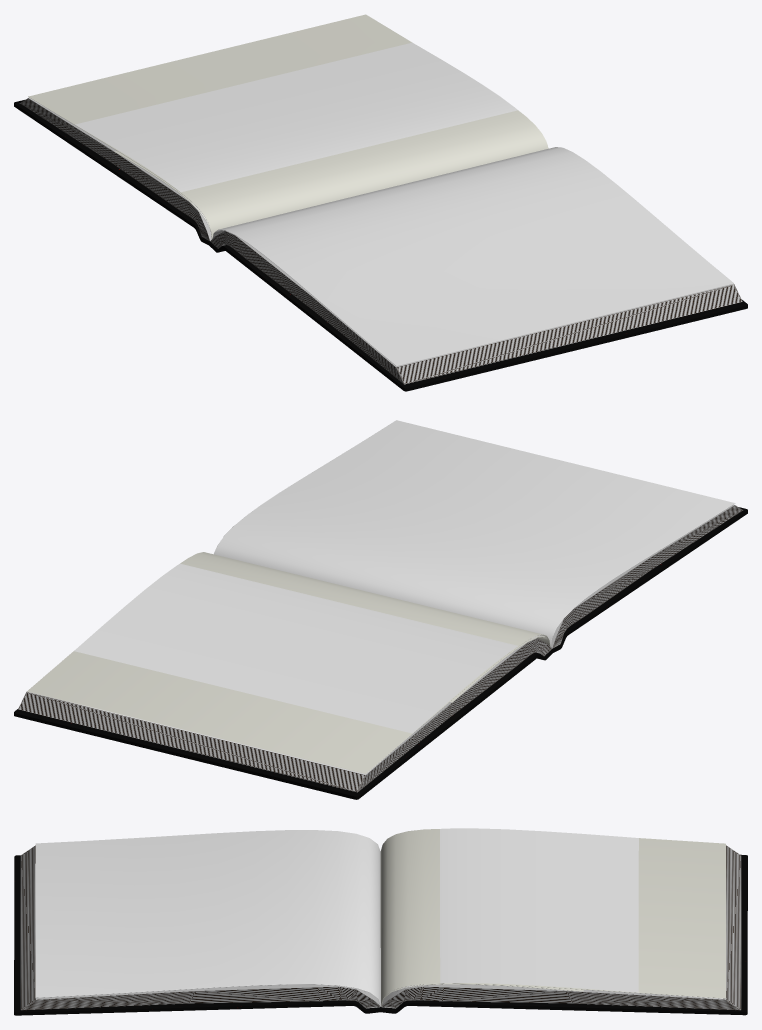
File: book.fbx
3 renders of one model, top to bottom at view 1: azimuth 30°, elevation 25°; view 2: azimuth 150°, elevation 25°; view 3: azimuth 270°, elevation 25°, orthographic. The views are drawn at different scales.
Parts seen in each view (by area): view 1: page1.001, page1.002, page1.003, fake pages side, Cover, fake pages top; view 2: page1.001, page1.002, page1.003, fake pages side, Cover, fake pages top; view 3: page1.001, page1.002, page1.003, fake pages side, Cover, fake pages top, page1.
Part boxes in pixels (box(x1,y1,x2,y2)): page1.001: box(212, 147, 733, 365); page1.002: box(28, 42, 517, 227); page1.003: box(28, 14, 548, 238); fake pages side: box(20, 98, 742, 384); Cover: box(14, 100, 747, 391); fake pages top: box(28, 98, 734, 384); page1.001: box(214, 420, 735, 646); page1.002: box(71, 563, 546, 774); page1.003: box(27, 552, 550, 773); fake pages side: box(18, 505, 742, 792); Cover: box(14, 507, 747, 799); fake pages top: box(26, 504, 734, 774); page1.001: box(35, 830, 380, 1006); page1.002: box(401, 828, 722, 999); page1.003: box(380, 829, 725, 1005); fake pages side: box(20, 845, 741, 1010); Cover: box(14, 854, 747, 1015); fake pages top: box(36, 984, 725, 1008); page1: box(381, 983, 583, 1006).
Bounding box in the file's own units: 203 × 18.81 × 400.
